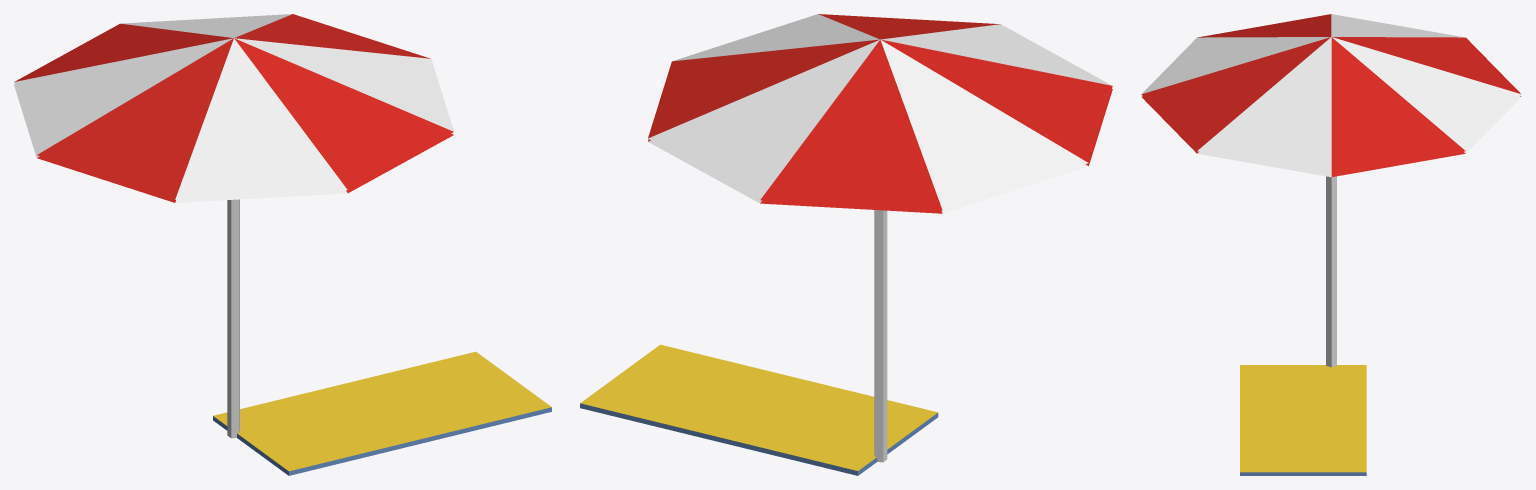
File: quitasol.obj
The picture shows the model from 3 angles, left to right: view 1: azimuth 30°, elevation 25°; view 2: azimuth 150°, elevation 25°; view 3: azimuth 270°, elevation 25°; orthographic projection. The views are drawn at different scales.
Visible parts, largest first — view 1: quitasol; view 2: quitasol; view 3: quitasol.
Boxes of the visible parts, <box> form: quitasol: <box>14,14,551,475</box>; quitasol: <box>580,14,1112,475</box>; quitasol: <box>1141,14,1521,475</box>.
Size of the model in its own units: 3.15 by 2.6 by 2.7.
